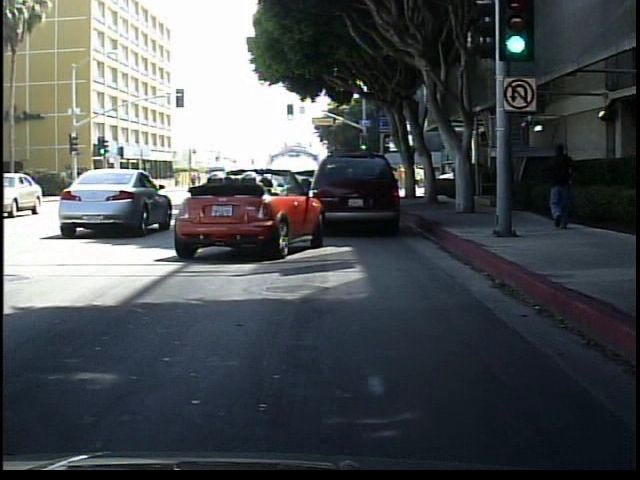person: (544, 138, 579, 233), (487, 144, 515, 215)
